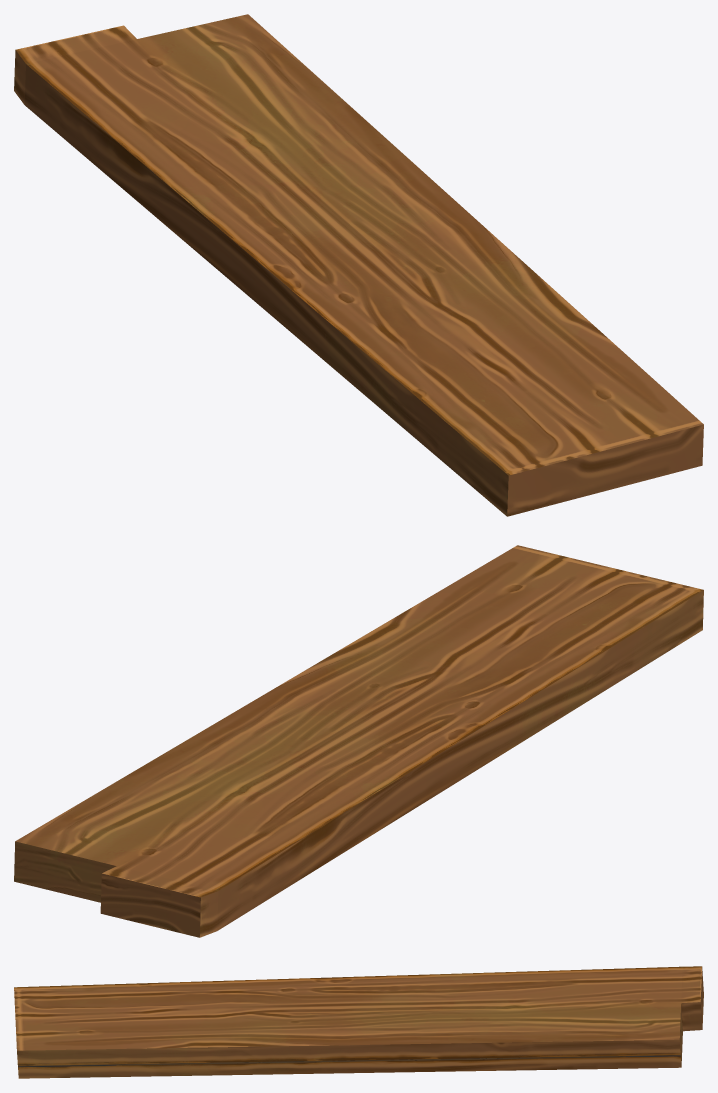
3 views of the same model, one above another, from view 1: azimuth 30°, elevation 25°; view 2: azimuth 150°, elevation 25°; view 3: azimuth 270°, elevation 25° (orthographic). The views are drawn at different scales.
Visible parts, largest first — view 1: Cube.869; view 2: Cube.869; view 3: Cube.869.
Boxes of the visible parts, x1,y1,x2,y2 form: Cube.869: (14, 14, 703, 516); Cube.869: (14, 545, 703, 937); Cube.869: (14, 966, 703, 1078).
Size of the model in its own units: 63.37 by 21.47 by 238.
1 material, 1 textured.
